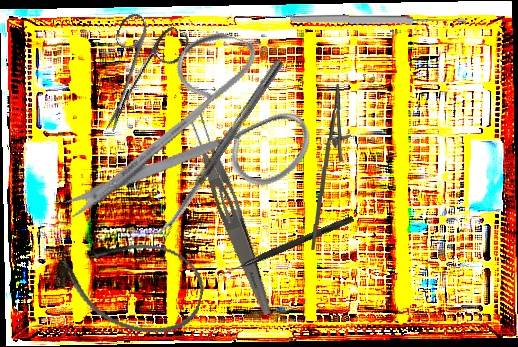Cannula: (47, 221, 213, 346)
Dressing Forceps: (181, 106, 282, 318)
Hook Surgical: (218, 213, 355, 281)
Iris Scissors: (56, 0, 338, 288), (79, 7, 192, 146)
Needle Holder: (310, 82, 353, 252)
Surgical Spoon: (158, 58, 284, 238), (289, 13, 467, 27)
